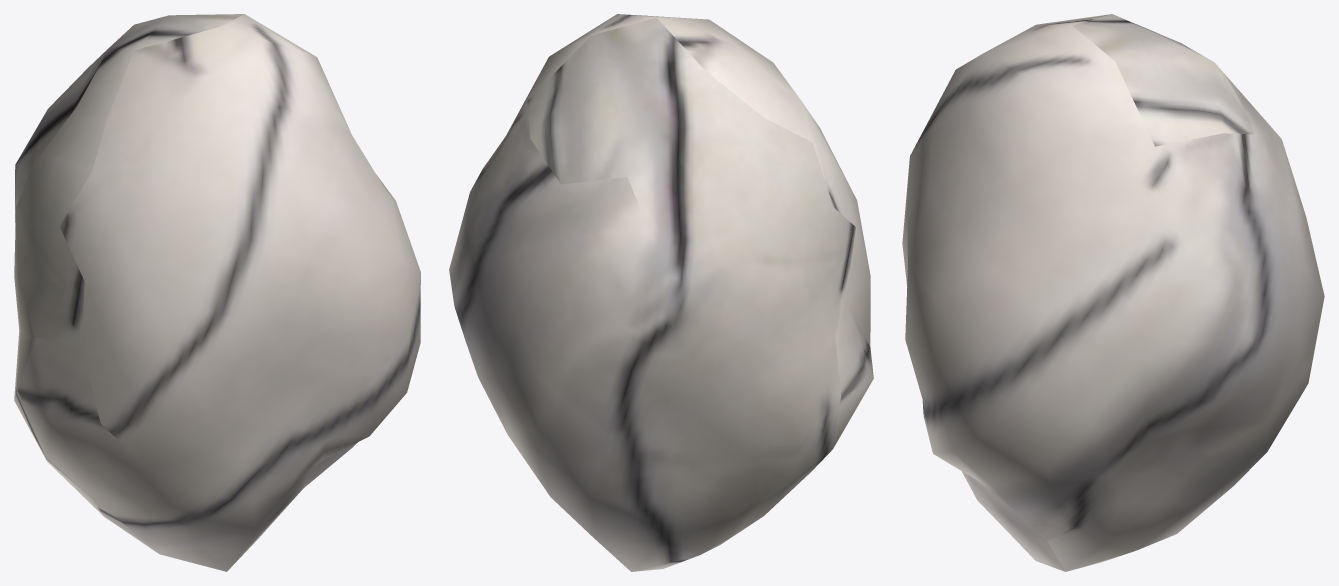
Rendered from jjAsteroidS_obj.fbx.
3 views of the same model, side by side, from view 1: azimuth 30°, elevation 25°; view 2: azimuth 150°, elevation 25°; view 3: azimuth 270°, elevation 25° (orthographic). The views are drawn at different scales.
Parts seen in each view (by area): view 1: AsteroidS_mesh; view 2: AsteroidS_mesh; view 3: AsteroidS_mesh.
Part boxes in pixels (x1,y1,x2,y2): AsteroidS_mesh: [14, 14, 420, 571]; AsteroidS_mesh: [449, 14, 873, 571]; AsteroidS_mesh: [902, 14, 1324, 571].
Size of the model in its own units: 0.8507 by 1.18 by 0.822.
